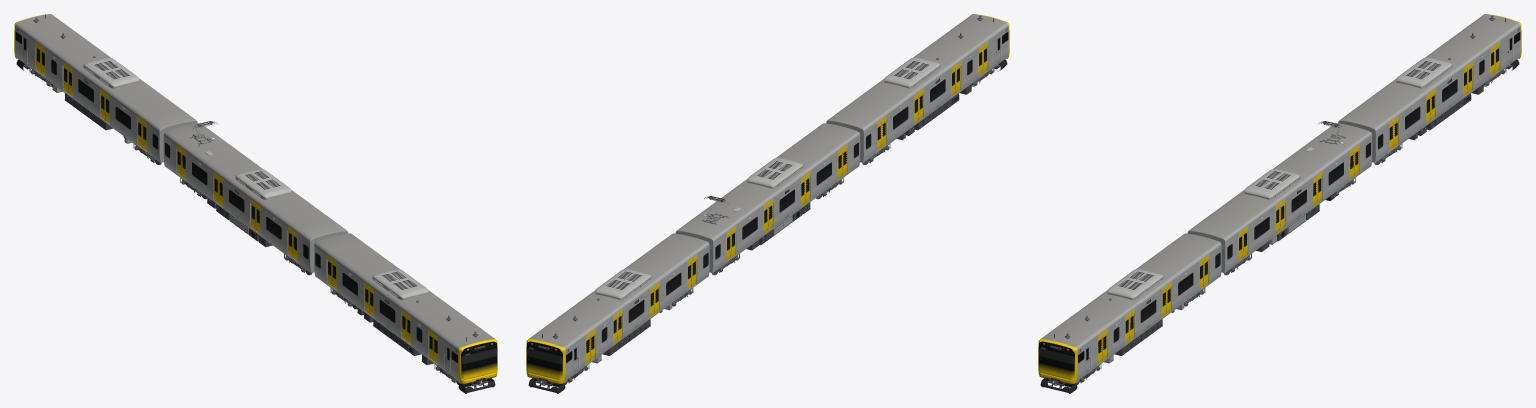
The model's file is e235-chuosobu.glb.
3 renders of one model, left to right at view 1: azimuth 30°, elevation 25°; view 2: azimuth 150°, elevation 25°; view 3: azimuth 330°, elevation 25°, orthographic.
Parts seen in each view (by area): view 1: car0_body, car2_body, car1_body, car0_gear, car1_gear, car2_gear; view 2: car2_body, car0_body, car1_body, car2_gear, car1_gear, car0_gear; view 3: car0_body, car1_body, car2_body, car0_gear, car1_gear, car2_gear.
Boxes of the visible parts, box(x1,y1,x2,y2) form: car0_body: box(314, 233, 497, 384); car2_body: box(14, 14, 197, 162); car1_body: box(163, 123, 348, 272); car0_gear: box(330, 269, 495, 393); car1_gear: box(180, 121, 312, 275); car2_gear: box(16, 14, 161, 164); car2_body: box(526, 233, 709, 384); car0_body: box(826, 14, 1009, 162); car1_body: box(675, 123, 860, 272); car2_gear: box(528, 269, 693, 393); car1_gear: box(702, 158, 843, 275); car0_gear: box(862, 15, 1007, 164); car0_body: box(1038, 233, 1221, 384); car1_body: box(1187, 123, 1372, 272); car2_body: box(1338, 14, 1521, 162); car0_gear: box(1040, 269, 1205, 393); car1_gear: box(1223, 121, 1355, 275); car2_gear: box(1374, 15, 1519, 164).
Bounding box in the file's own units: 3.06 × 5.03 × 60.2.
8 materials, 8 textured.
